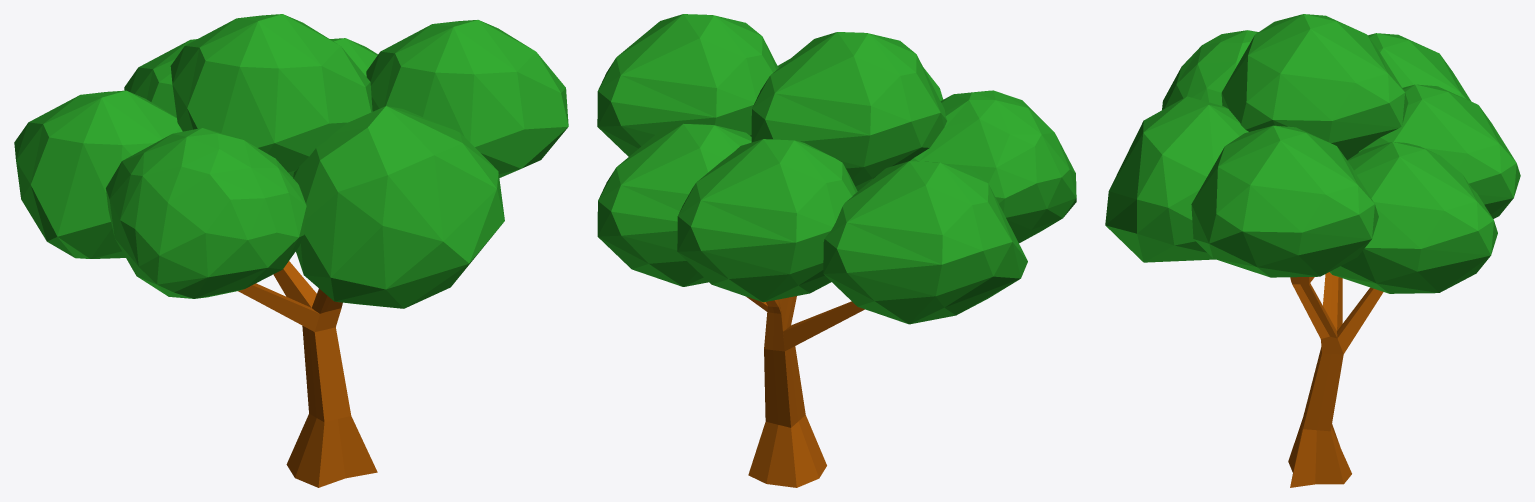
The model's file is Tree1.fbx.
The picture shows the model from 3 angles, left to right: view 1: azimuth 30°, elevation 25°; view 2: azimuth 150°, elevation 25°; view 3: azimuth 270°, elevation 25°; orthographic projection. The views are drawn at different scales.
Visible parts, largest first — view 1: Tree1; view 2: Tree1; view 3: Tree1.
Part boxes in pixels (bbox=[...]): Tree1: bbox=[14, 14, 568, 487]; Tree1: bbox=[597, 14, 1076, 487]; Tree1: bbox=[1105, 14, 1520, 487].
Bounding box in the file's own units: 11.69 × 10.07 × 11.36.
